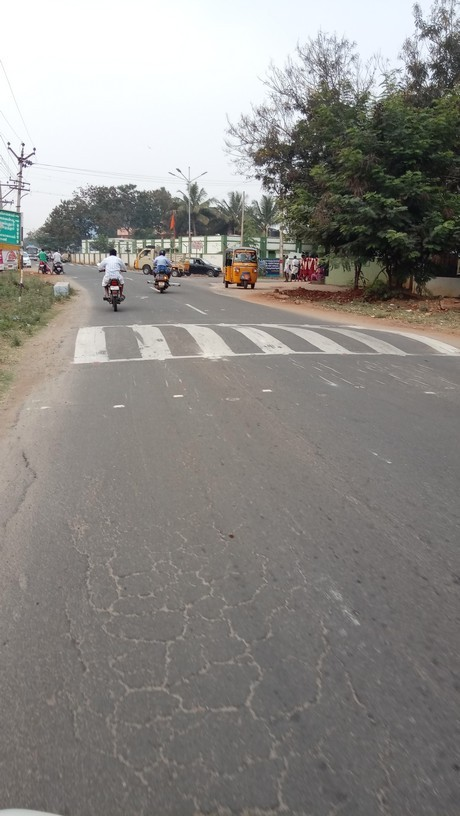bump: (72, 321, 460, 361)
